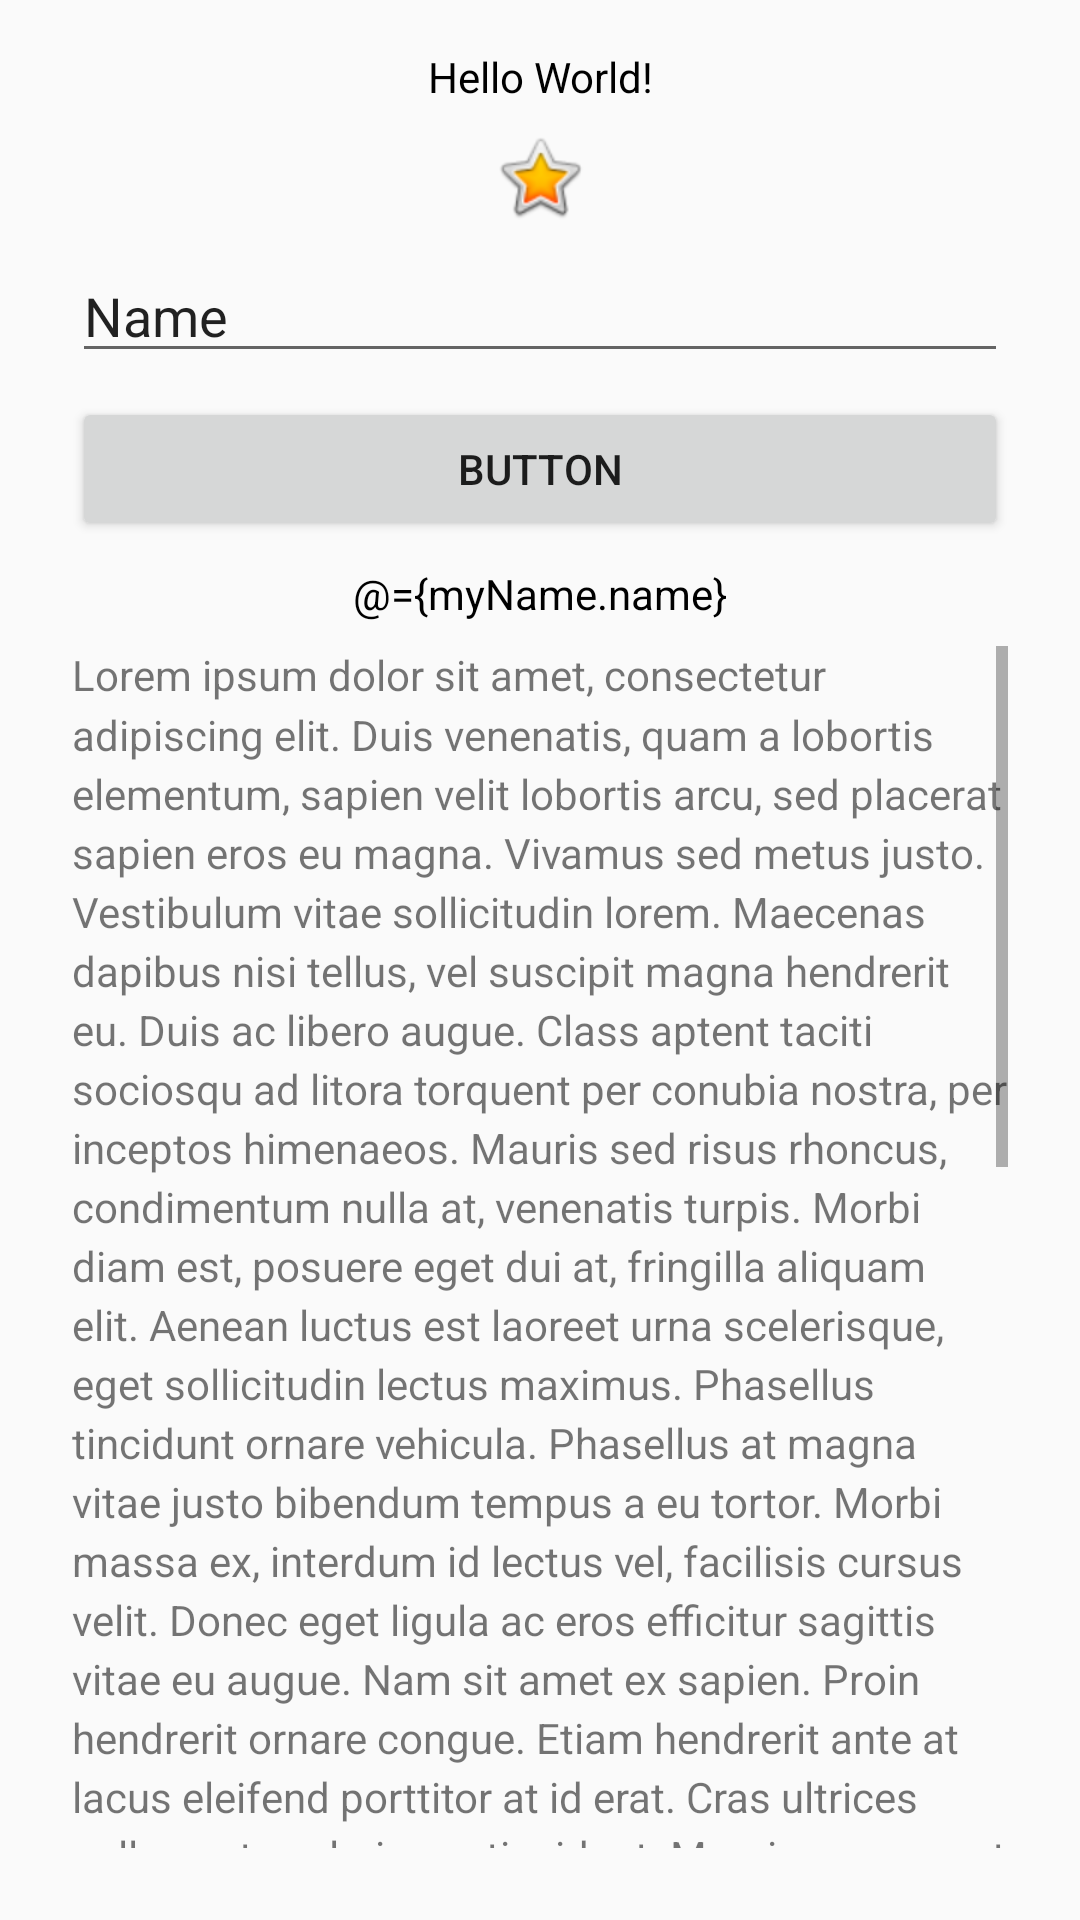

Icons on this 1080 × 1920 Android screen, each with the point to tap as point (x, y):
yellow star: point (541, 178)
